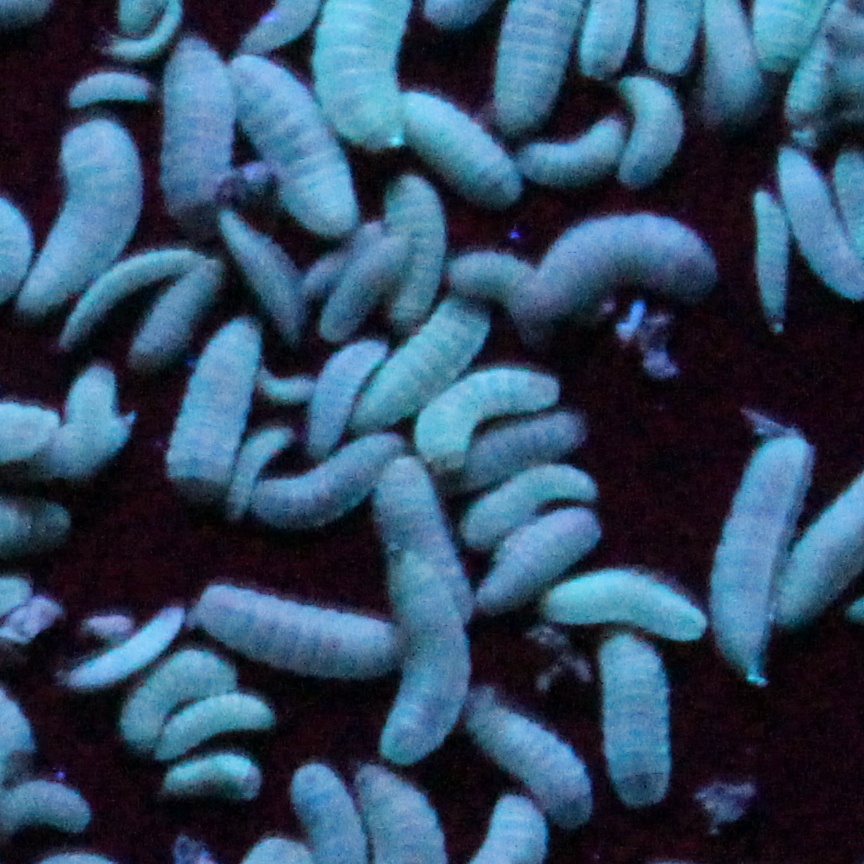larve: (219, 50, 361, 238), (27, 114, 139, 304), (456, 686, 595, 827), (207, 578, 403, 674), (351, 301, 485, 438), (166, 326, 268, 494), (718, 435, 787, 670), (383, 559, 462, 763), (522, 206, 705, 294), (589, 635, 675, 808), (400, 82, 515, 206), (373, 457, 466, 608), (475, 512, 599, 617), (415, 380, 562, 461), (250, 445, 399, 523), (158, 45, 227, 211), (380, 165, 456, 314), (526, 572, 717, 631), (315, 338, 407, 453), (73, 243, 178, 340), (118, 661, 244, 739), (473, 463, 595, 543), (322, 211, 405, 326), (134, 260, 224, 362), (224, 209, 300, 328), (442, 421, 595, 478), (612, 65, 680, 184), (71, 608, 169, 688), (517, 111, 615, 187), (741, 184, 795, 321), (449, 235, 539, 311), (160, 694, 275, 751), (246, 360, 330, 401)
